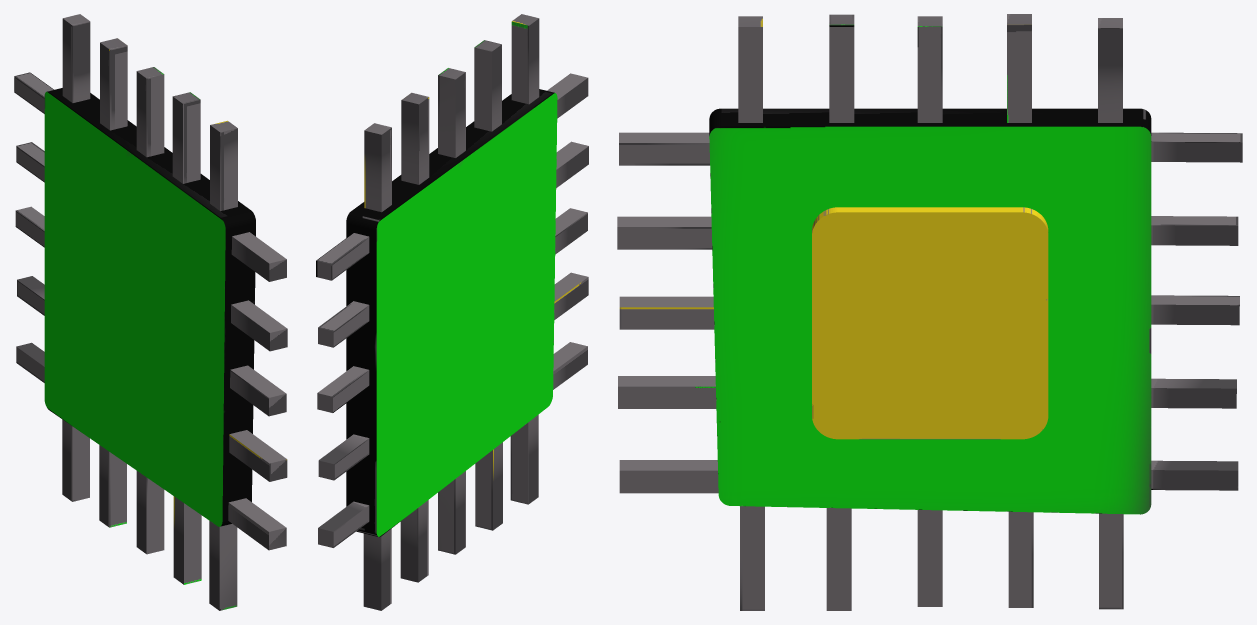
File: processador.glb
3 views of the same model, side by side, from view 1: azimuth 30°, elevation 25°; view 2: azimuth 150°, elevation 25°; view 3: azimuth 270°, elevation 25° (orthographic). The views are drawn at different scales.
Parts seen in each view (by area): view 1: Cube; view 2: Cube; view 3: Cube.
Part boxes in pixels (x1,y1,x2,y2): Cube: [14, 14, 287, 610]; Cube: [316, 14, 588, 610]; Cube: [617, 14, 1242, 610].
Size of the model in its own units: 0.305 by 3.59 by 3.47.
1 material, 1 textured.
